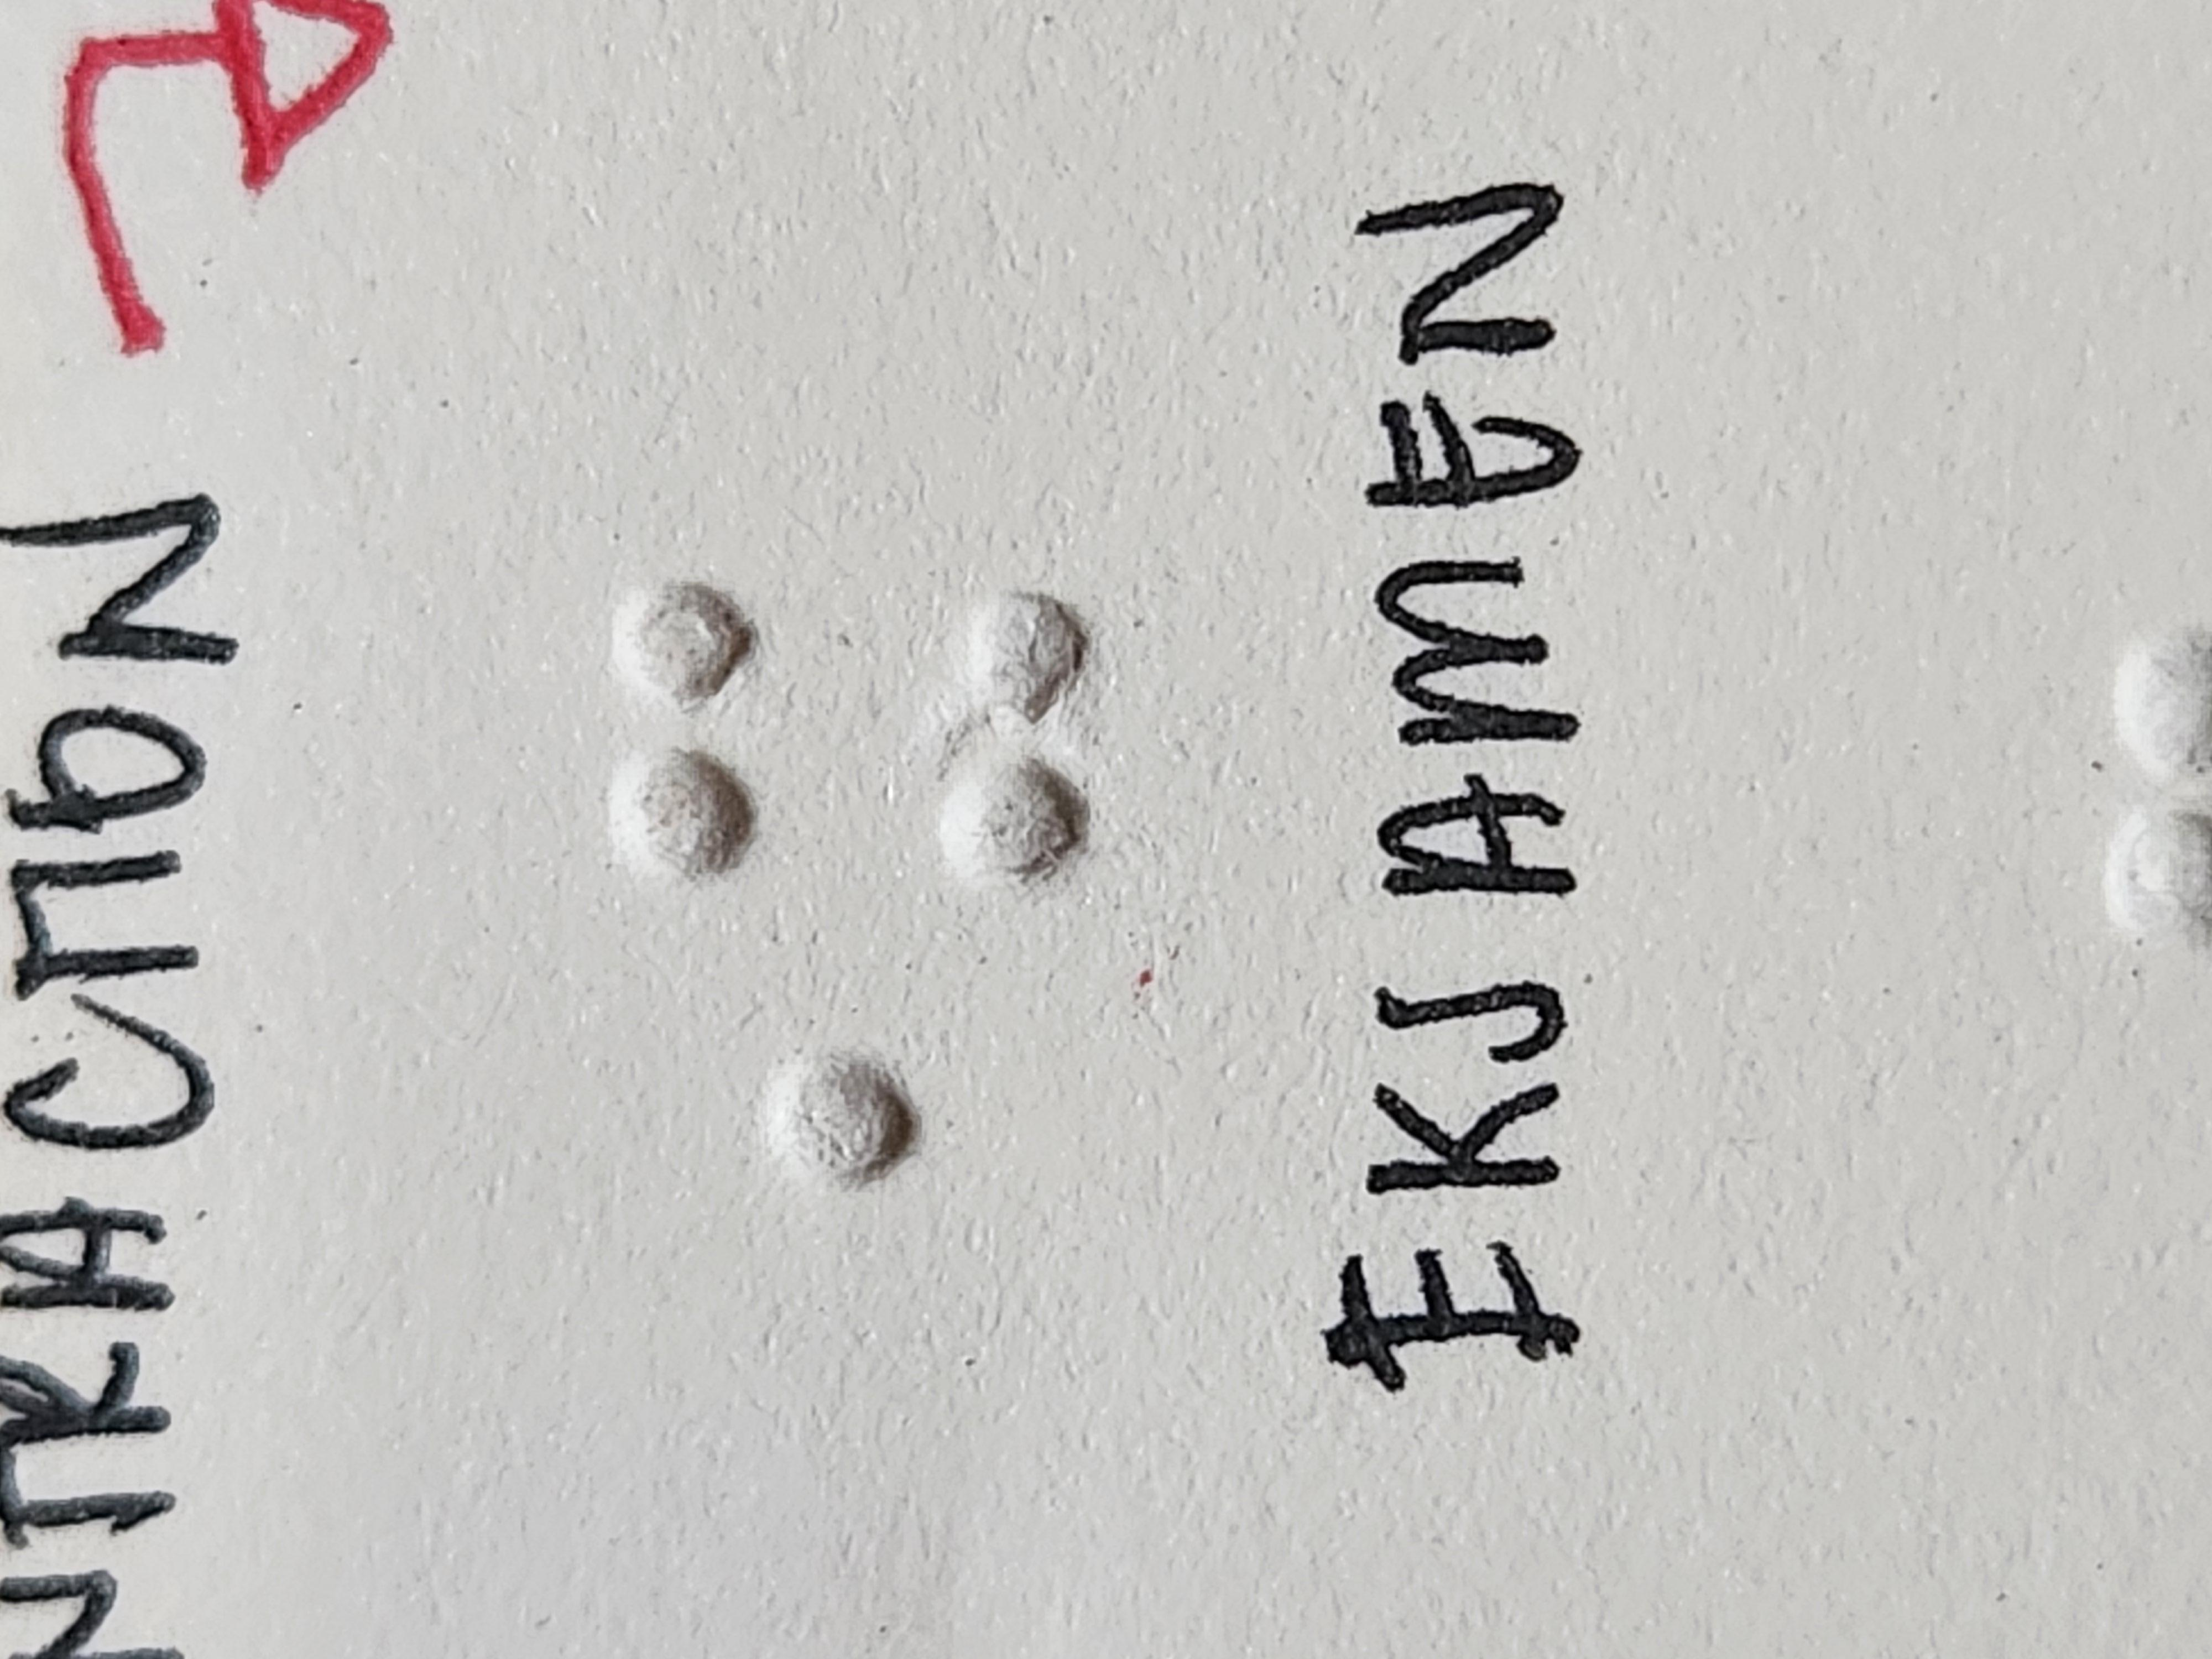dot_5: (416, 458, 815, 819)
two_cell_alphabet_eksamen: (1042, 462, 1440, 823)
